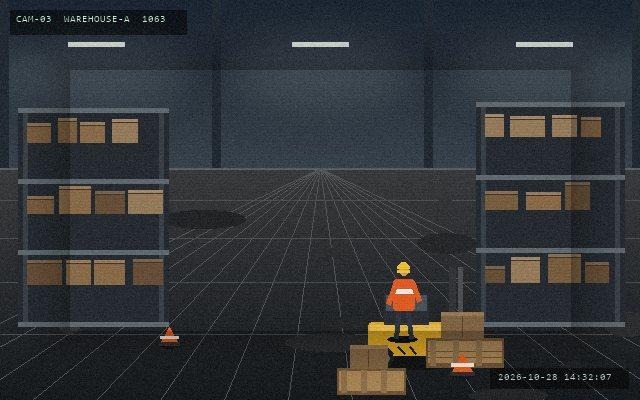cone: (449, 351, 475, 378), (158, 325, 180, 348)
forklift: (364, 265, 490, 369)
pallet: (424, 336, 505, 369), (335, 366, 407, 396)
person: (386, 260, 421, 341)
shelf: (476, 102, 624, 322), (18, 108, 168, 322)
